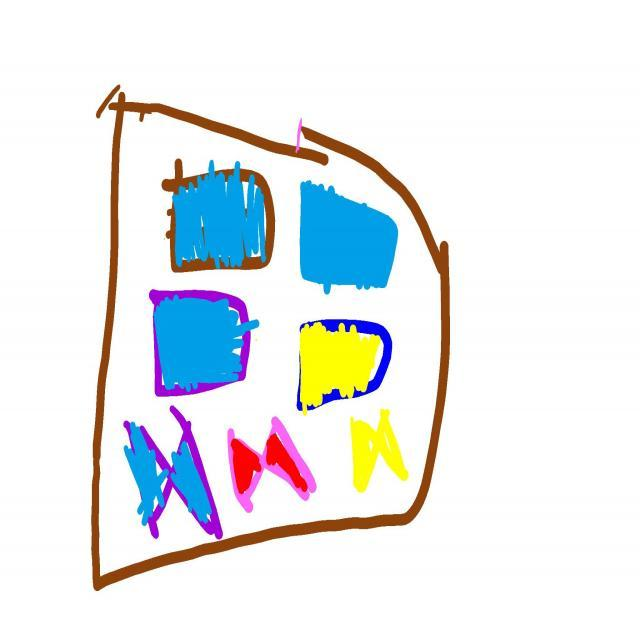house: (92, 86, 449, 590)
wall: (105, 106, 448, 543)
window: (162, 160, 275, 272), (150, 291, 259, 396), (301, 181, 398, 294), (297, 320, 393, 414)
